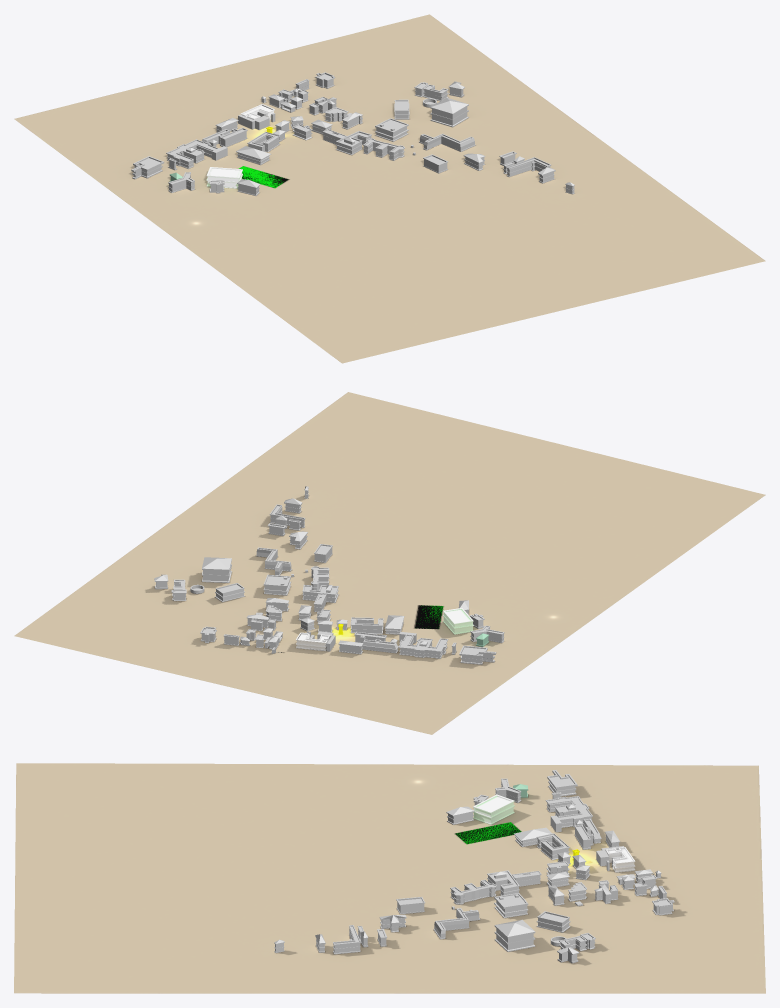
3 renders of one model, top to bottom at view 1: azimuth 30°, elevation 25°; view 2: azimuth 150°, elevation 25°; view 3: azimuth 270°, elevation 25°, orthographic. The views are drawn at different scales.
Visible parts, largest first — view 1: EXPORT_OSM_MAPNIK_WM, University_College_Of_Engineering,_CSS,_HRDC, Under_Construction_...., Political_Science_Sociology_Economics_History, FYUG_Girls_Hostel, Department_Of_Aquatic_Biology_And_Fisheries_/_Future_Studies; view 2: EXPORT_OSM_MAPNIK_WM, University_College_Of_Engineering,_CSS,_HRDC, Under_Construction_...., FYUG_Girls_Hostel; view 3: EXPORT_OSM_MAPNIK_WM, Under_Construction_...., University_College_Of_Engineering,_CSS,_HRDC, FYUG_Girls_Hostel, Playground, Department_Of_Aquatic_Biology_And_Fisheries_/_Future_Studies, Political_Science_Sociology_Economics_History, ONV_Memorial_Building_School_Of_Indian_Languages, School_of_Buisiness_Management _&_Legal_Studies, Central_Laboratory_For_Instrumentational_And_Facilitation, Mens_Hostel, Geology,_Statistics,_Mathematics,_Psychology (+5 smaller).
Part boxes in pixels (x1,y1,x2,y2): EXPORT_OSM_MAPNIK_WM: (14,14,765,363); University_College_Of_Engineering,_CSS,_HRDC: (166,139,218,168); Under_Construction_....: (430,97,468,127); Political_Science_Sociology_Economics_History: (419,133,475,151); FYUG_Girls_Hostel: (206,167,242,188); Department_Of_Aquatic_Biology_And_Fisheries_/_Future_Studies: (363,138,404,160); EXPORT_OSM_MAPNIK_WM: (14,392,765,734); University_College_Of_Engineering,_CSS,_HRDC: (398,634,448,658); Under_Construction_....: (202,557,231,582); FYUG_Girls_Hostel: (443,608,473,634); EXPORT_OSM_MAPNIK_WM: (14,763,765,993); Under_Construction_....: (494,919,535,951); University_College_Of_Engineering,_CSS,_HRDC: (545,796,592,827); FYUG_Girls_Hostel: (473,794,514,824); Playground: (455,822,521,844); Department_Of_Aquatic_Biology_And_Fisheries_/_Future_Studies: (450,879,496,904); Political_Science_Sociology_Economics_History: (433,908,480,939); ONV_Memorial_Building_School_Of_Indian_Languages: (494,893,528,918); School_of_Buisiness_Management _&_Legal_Studies: (536,833,569,860); Central_Laboratory_For_Instrumentational_And_Facilitation: (487,870,519,895); Mens_Hostel: (547,770,577,796); Geology,_Statistics,_Mathematics,_Psychology: (606,847,635,872).
Bounding box in the file's own units: 1147 × 80.3 × 1580.
Materials: 7 (4 with a texture image).
